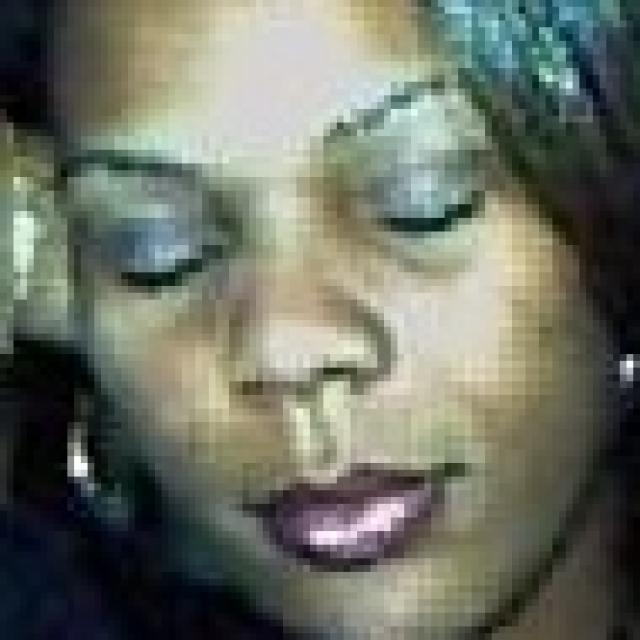Eyeclosed: (116, 232, 221, 300), (368, 185, 488, 244)
